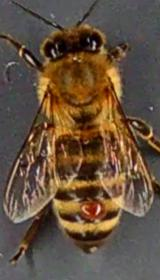varroa_mite: (69, 190, 121, 230)
